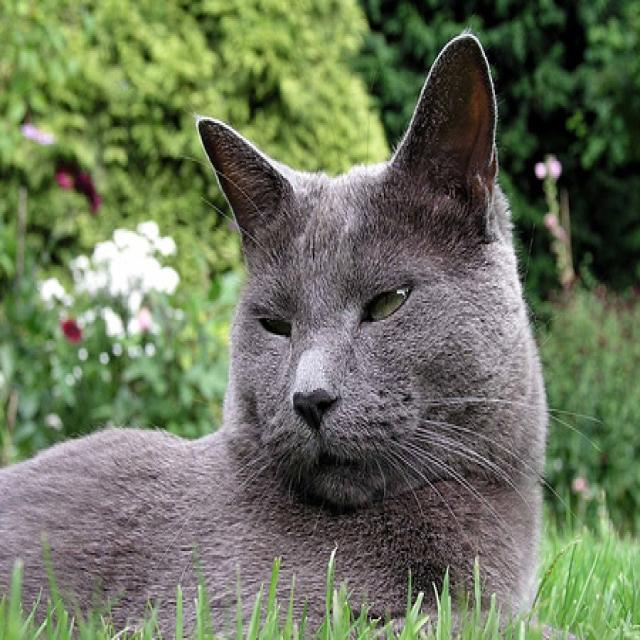Russian Blue: (0, 28, 596, 640)
